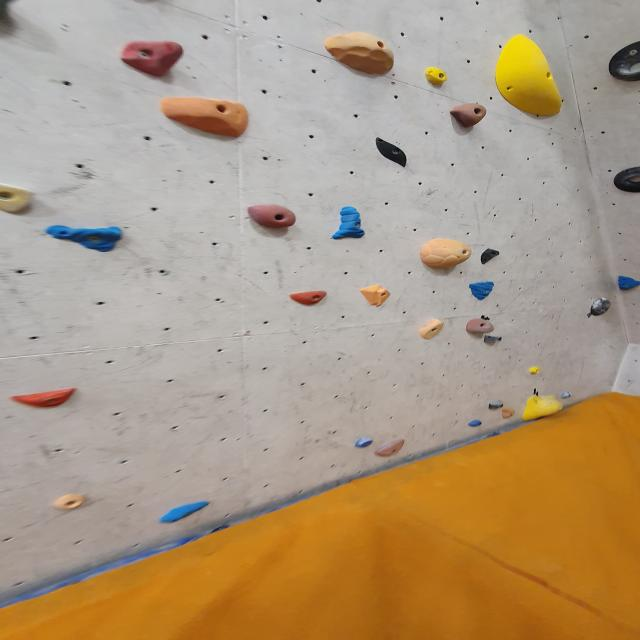Crimp: (45, 227, 126, 251), (9, 389, 81, 409), (157, 500, 213, 524), (0, 185, 35, 218), (52, 493, 90, 512), (288, 290, 331, 306), (470, 282, 497, 301), (617, 275, 640, 292), (352, 439, 374, 450), (469, 420, 486, 429), (561, 392, 572, 398)
Jug: (120, 40, 187, 76), (247, 204, 300, 230), (448, 103, 488, 130), (465, 318, 497, 334)
Pinch: (332, 206, 368, 240), (418, 318, 446, 341), (483, 398, 508, 411), (482, 334, 505, 344)
Pocket: (606, 44, 640, 83), (609, 165, 640, 193), (593, 297, 612, 315)
Sloper: (497, 36, 568, 121), (159, 94, 254, 138), (320, 30, 395, 76), (420, 238, 473, 271), (371, 135, 417, 169), (520, 395, 564, 423), (359, 284, 393, 307), (372, 440, 407, 458), (424, 66, 447, 88), (480, 248, 506, 264), (499, 408, 515, 421), (523, 367, 545, 376)
